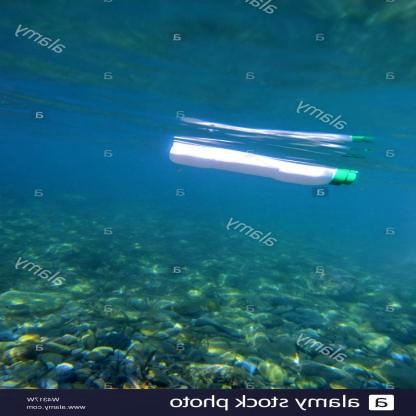pbottle: (165, 131, 376, 193)
